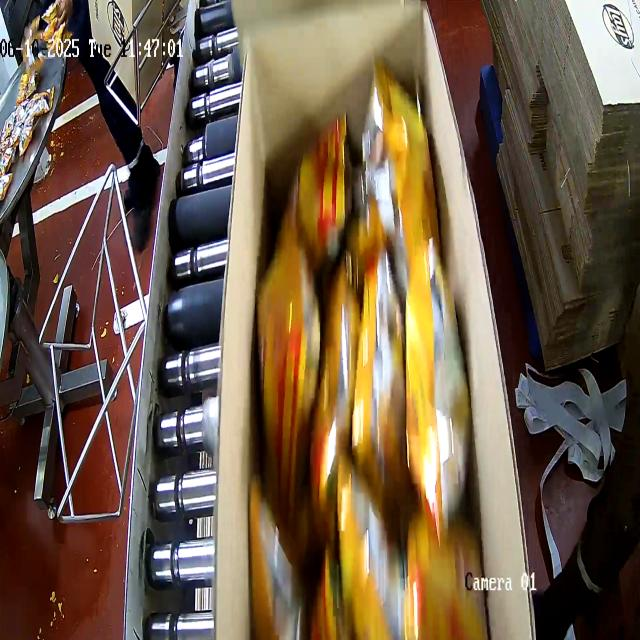FRENCH_CHEESE: (262, 85, 472, 640)
